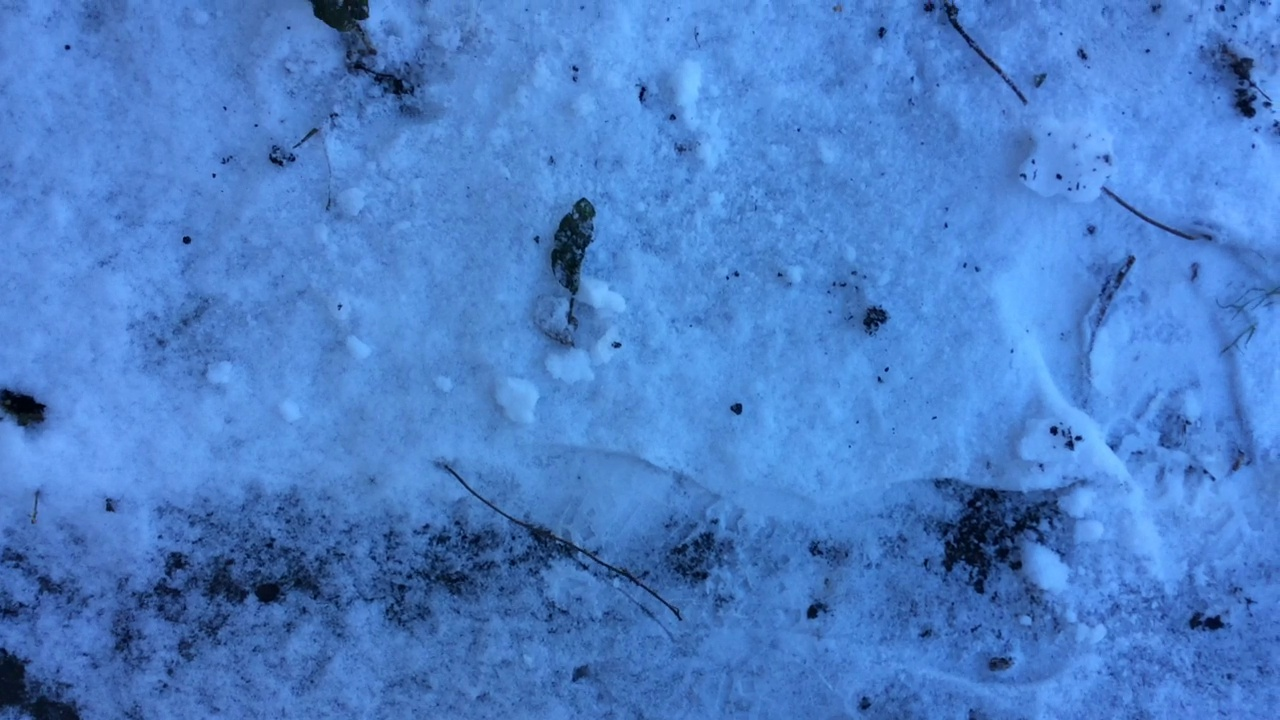root: (550, 321, 582, 349), (364, 44, 387, 69)
rumex: (544, 195, 605, 340), (308, 1, 382, 66)
